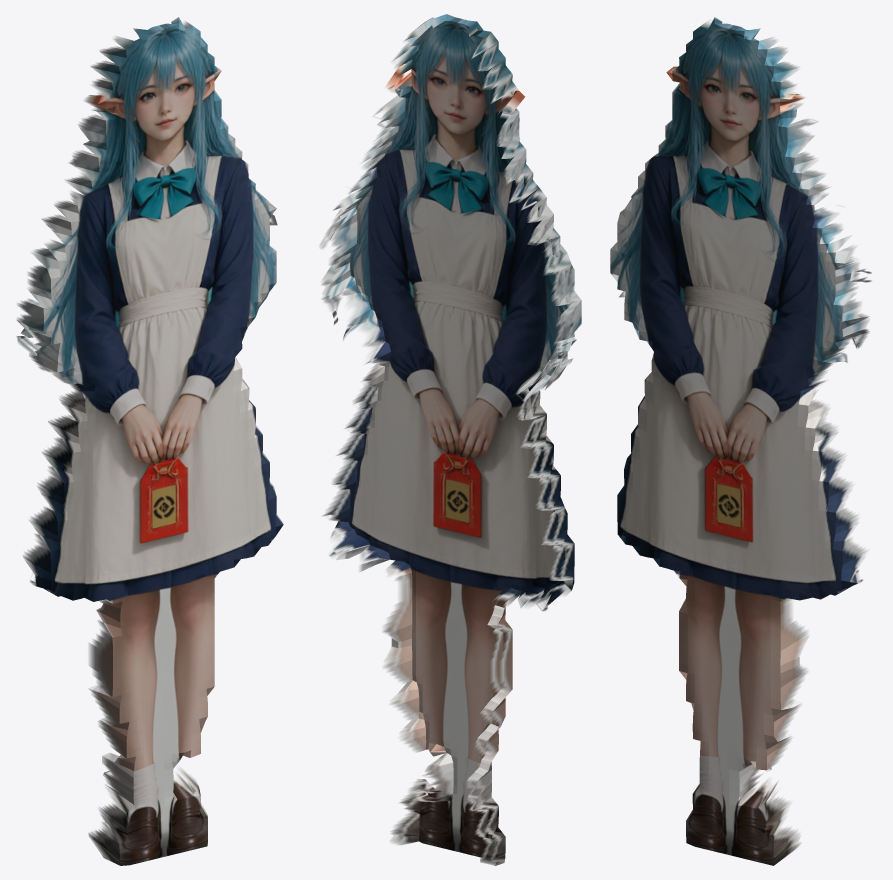
The model's file is khy-pet-female-realistic.glb.
3 views of the same model, side by side, from view 1: azimuth 30°, elevation 25°; view 2: azimuth 150°, elevation 25°; view 3: azimuth 330°, elevation 25° (orthographic).
Visible parts, largest first — view 1: realistic_relief; view 2: realistic_relief; view 3: realistic_relief.
Boxes of the visible parts, x1,y1,x2,y2 form: realistic_relief: (16, 17, 283, 865); realistic_relief: (319, 14, 581, 865); realistic_relief: (610, 17, 871, 865).
Bounding box in the file's own units: 0.3162 × 1 × 0.0585.
Materials: 1 (1 with a texture image).
